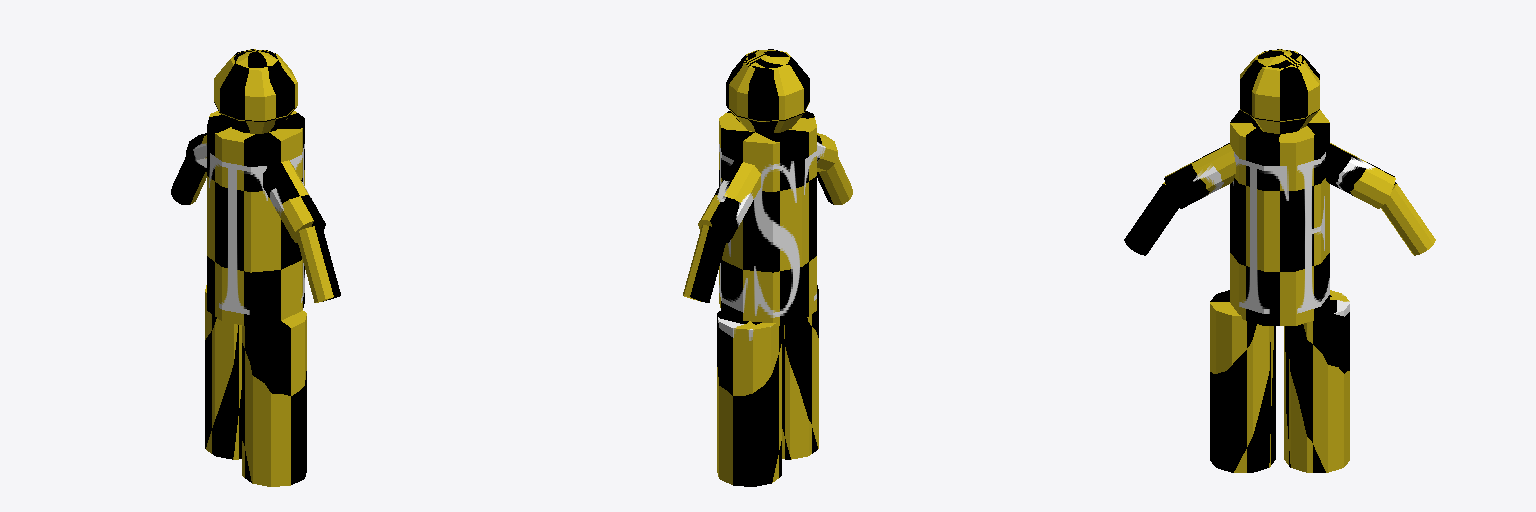
The picture shows the model from 3 angles: view 1: azimuth 30°, elevation 25°; view 2: azimuth 150°, elevation 25°; view 3: azimuth 270°, elevation 25°; orthographic projection.
Visible parts, largest first — view 1: Human_Cylinder.004; view 2: Human_Cylinder.004; view 3: Human_Cylinder.004.
Part boxes in pixels (x1,y1,x2,y2): Human_Cylinder.004: (171, 49, 340, 486); Human_Cylinder.004: (683, 49, 852, 486); Human_Cylinder.004: (1124, 49, 1435, 472).
Size of the model in its own units: 0.3842 by 1.8 by 1.25.
1 materials, 1 textured.